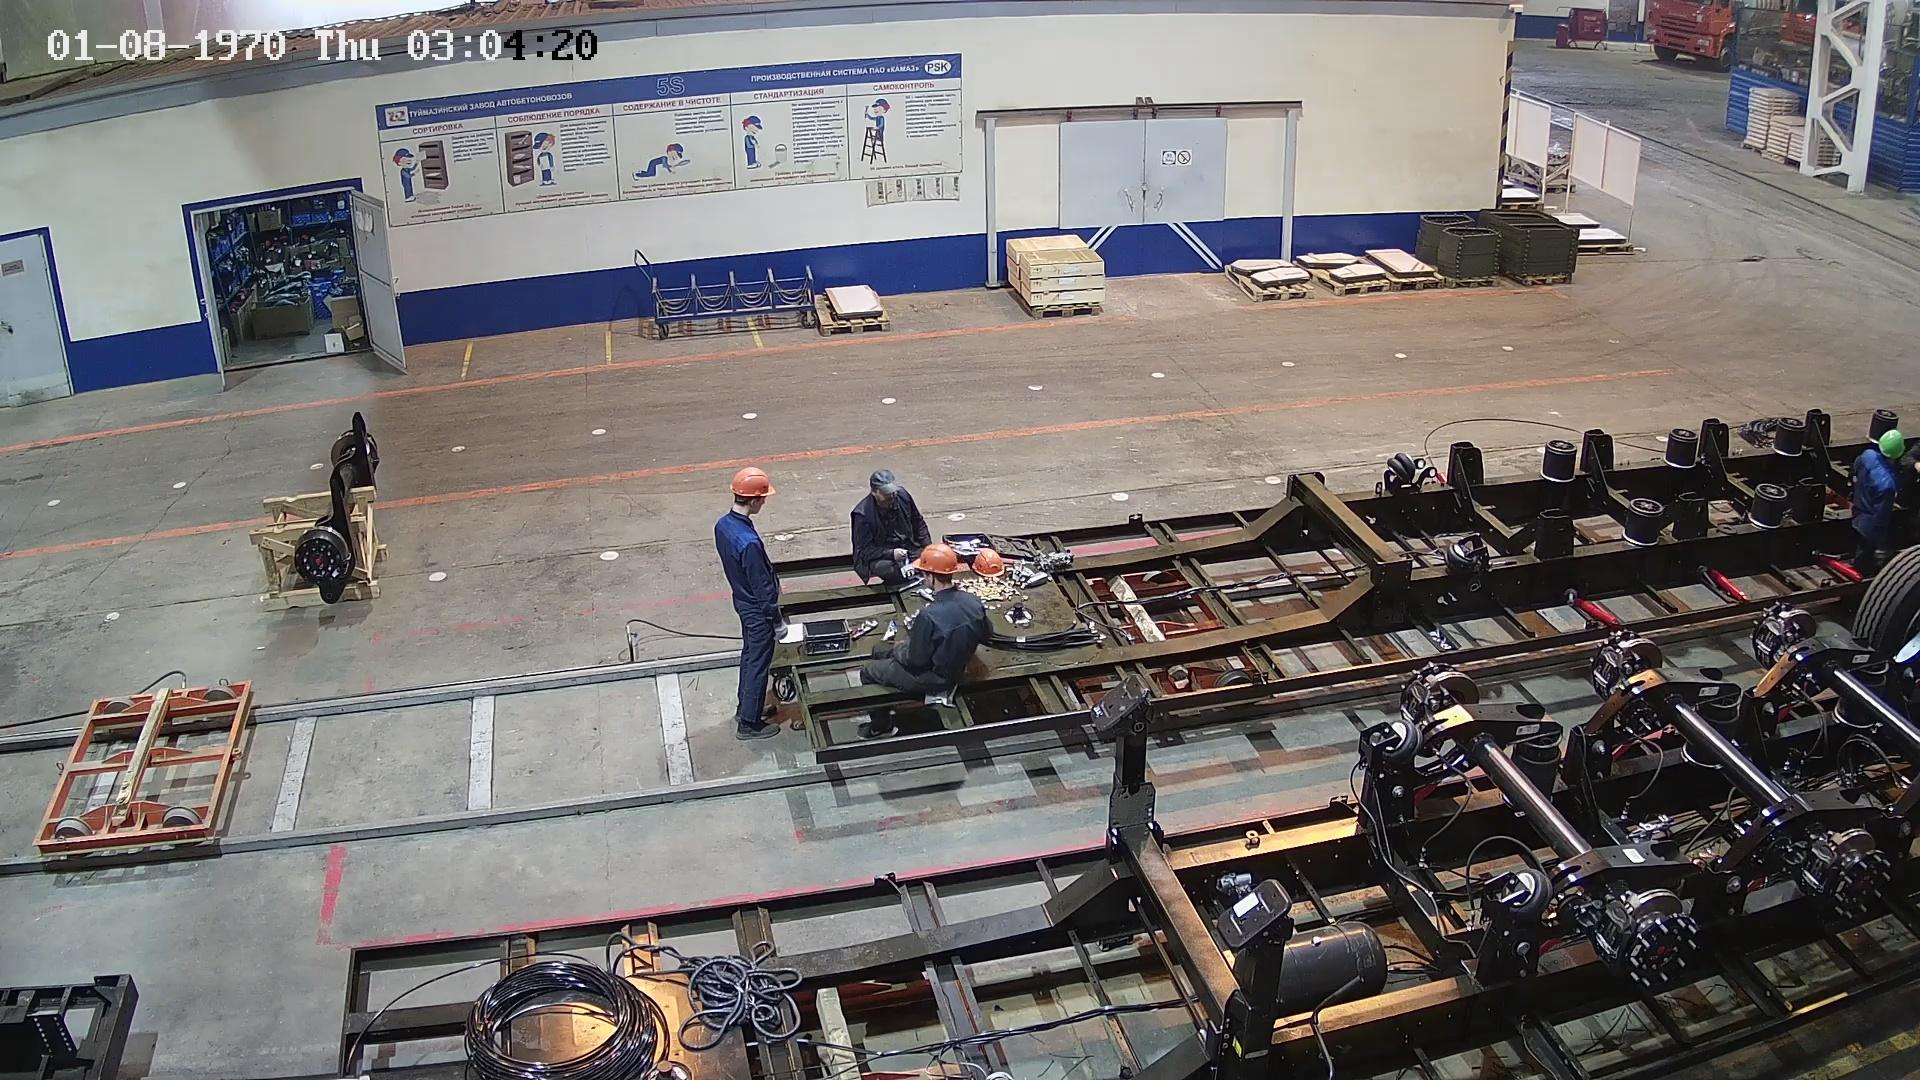helmet: (724, 460, 782, 502), (1872, 418, 1905, 468), (920, 540, 951, 575)
person: (700, 458, 799, 737), (875, 548, 987, 705), (850, 466, 919, 587), (1846, 410, 1903, 553)
